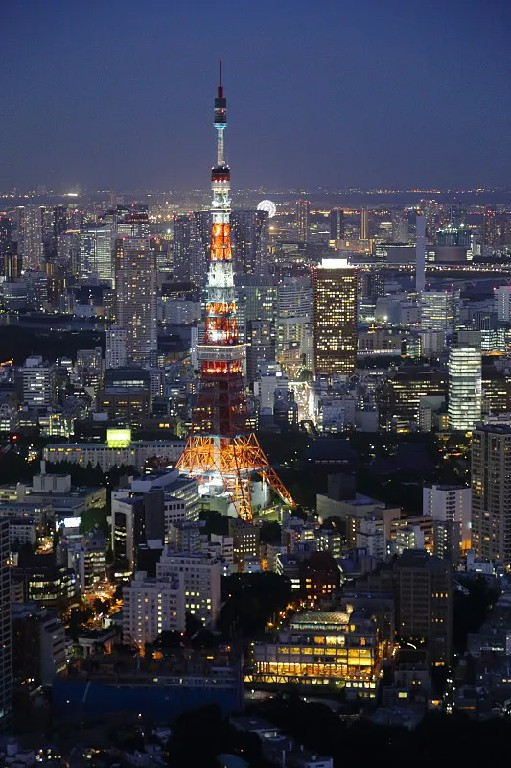Tokyo: (174, 51, 302, 521)
